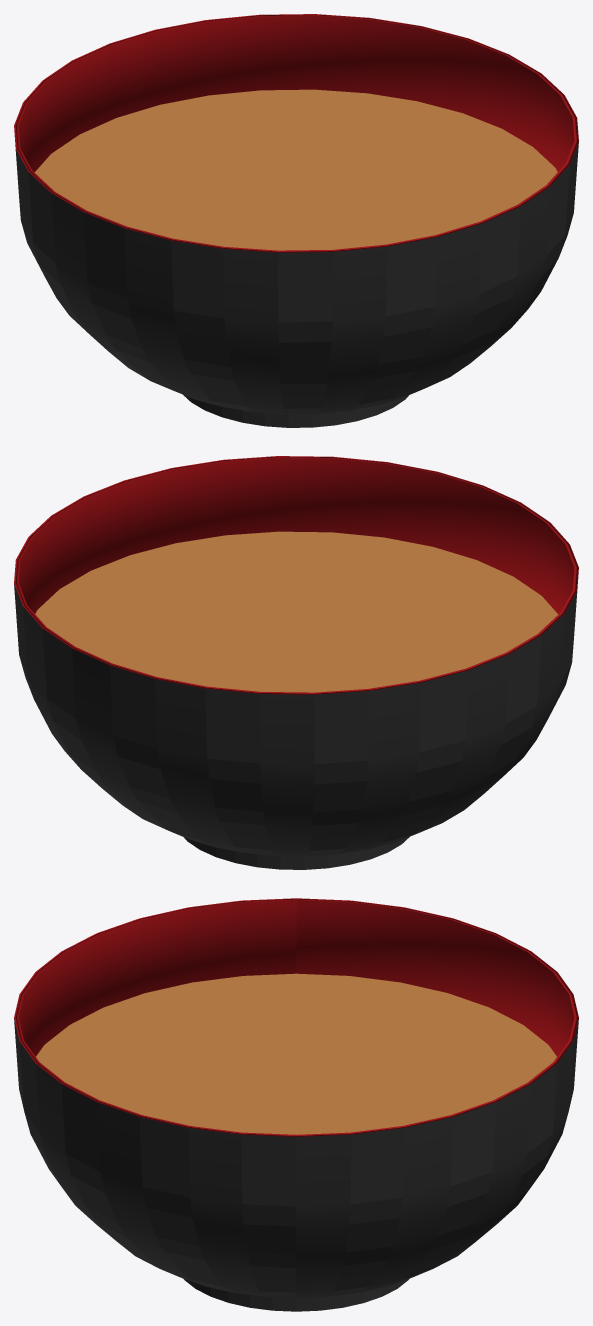
Rendered from miso_soup2.glb.
3 renders of one model, top to bottom at view 1: azimuth 30°, elevation 25°; view 2: azimuth 150°, elevation 25°; view 3: azimuth 270°, elevation 25°, orthographic.
Visible parts, largest first — view 1: 外壁; view 2: 外壁; view 3: 外壁.
Boxes of the visible parts, box(x1,y1,x2,y2) form: 外壁: box(14, 14, 578, 427); 外壁: box(14, 456, 578, 869); 外壁: box(14, 898, 578, 1311).
Size of the model in its own units: 0.1841 by 0.0874 by 0.1841.
